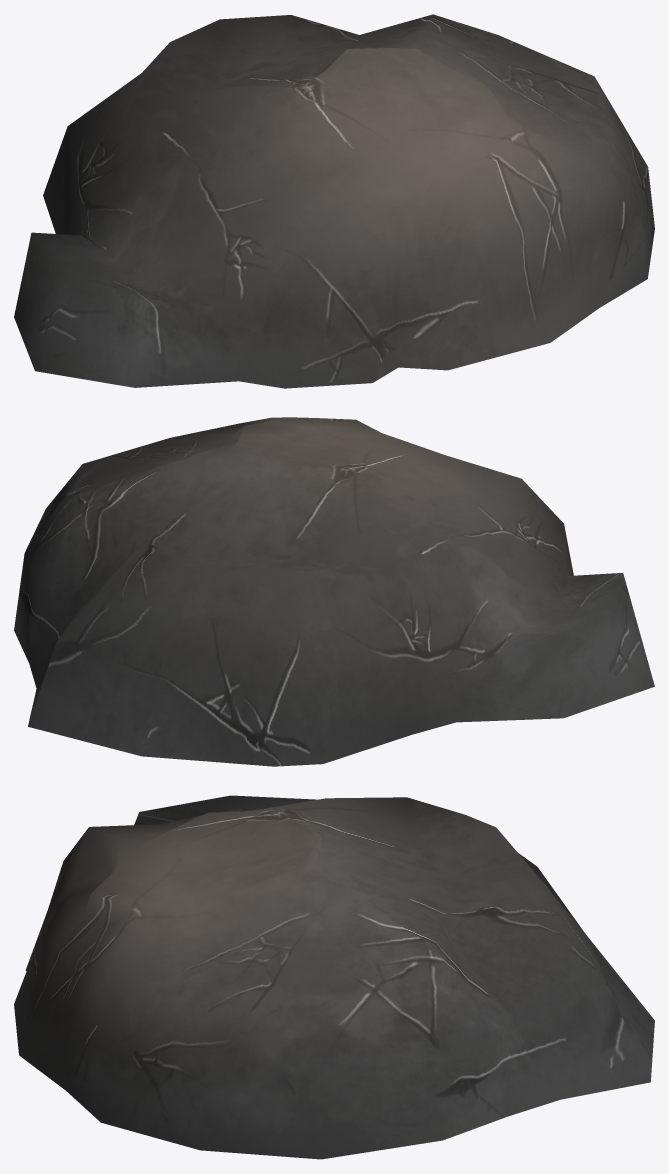
The model's file is pedraFazenda3.fbx.
3 renders of one model, top to bottom at view 1: azimuth 30°, elevation 25°; view 2: azimuth 150°, elevation 25°; view 3: azimuth 270°, elevation 25°, orthographic. The views are drawn at different scales.
Visible parts, largest first — view 1: CA_OPE_Props_Fazenda; view 2: CA_OPE_Props_Fazenda; view 3: CA_OPE_Props_Fazenda.
Part boxes in pixels (x1=…): CA_OPE_Props_Fazenda: x1=14, y1=14, x2=654, y2=388; CA_OPE_Props_Fazenda: x1=14, y1=417, x2=654, y2=766; CA_OPE_Props_Fazenda: x1=14, y1=795, x2=654, y2=1159.
Size of the model in its own units: 4.09 by 1.21 by 3.62.
